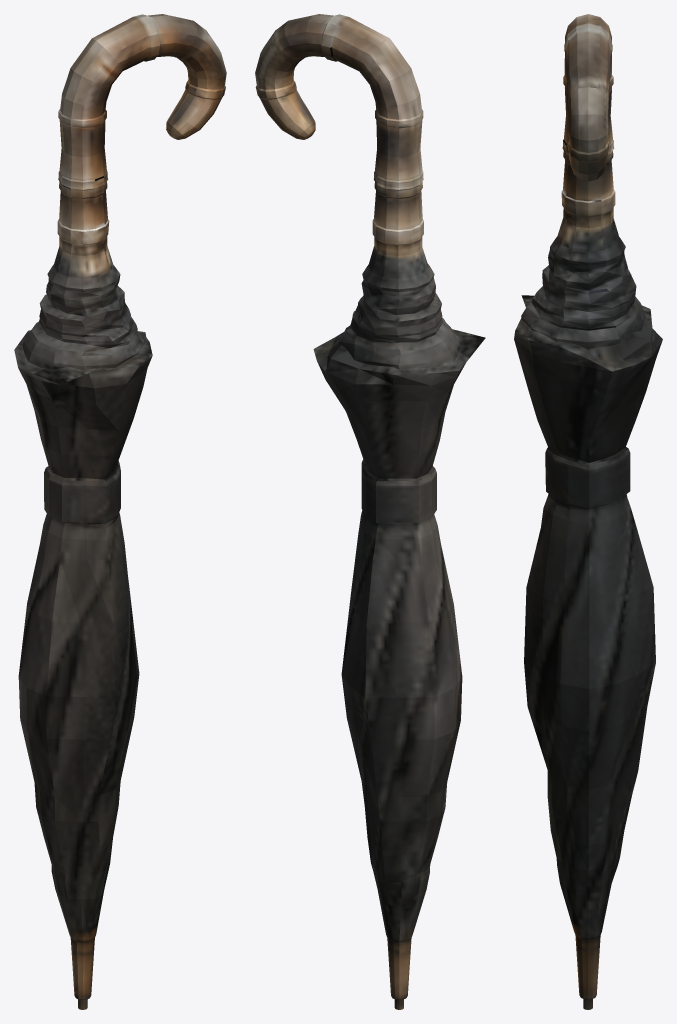
Rendered from Umbrella.fbx.
3 renders of one model, left to right at view 1: azimuth 30°, elevation 25°; view 2: azimuth 150°, elevation 25°; view 3: azimuth 270°, elevation 25°, orthographic. The views are drawn at different scales.
Parts seen in each view (by area): view 1: Umbrella_Low; view 2: Umbrella_Low; view 3: Umbrella_Low.
Part boxes in pixels (box(x1,y1,x2,y2)): Umbrella_Low: box(14, 14, 226, 1009); Umbrella_Low: box(255, 14, 485, 1009); Umbrella_Low: box(514, 14, 662, 1009).
Size of the model in its own units: 0.2144 by 0.9803 by 0.1306.
